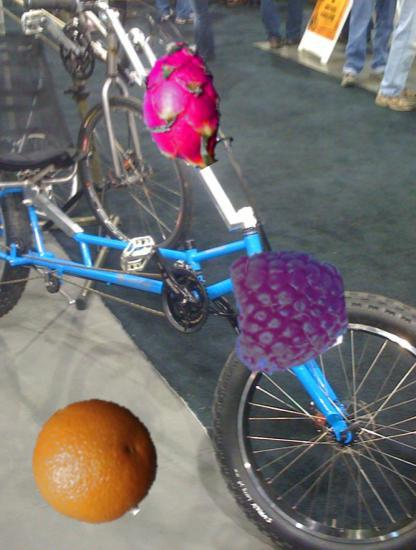Orange: (32, 398, 162, 528)
Pitahaya: (118, 45, 245, 172)
Raspberry: (226, 246, 353, 373)
